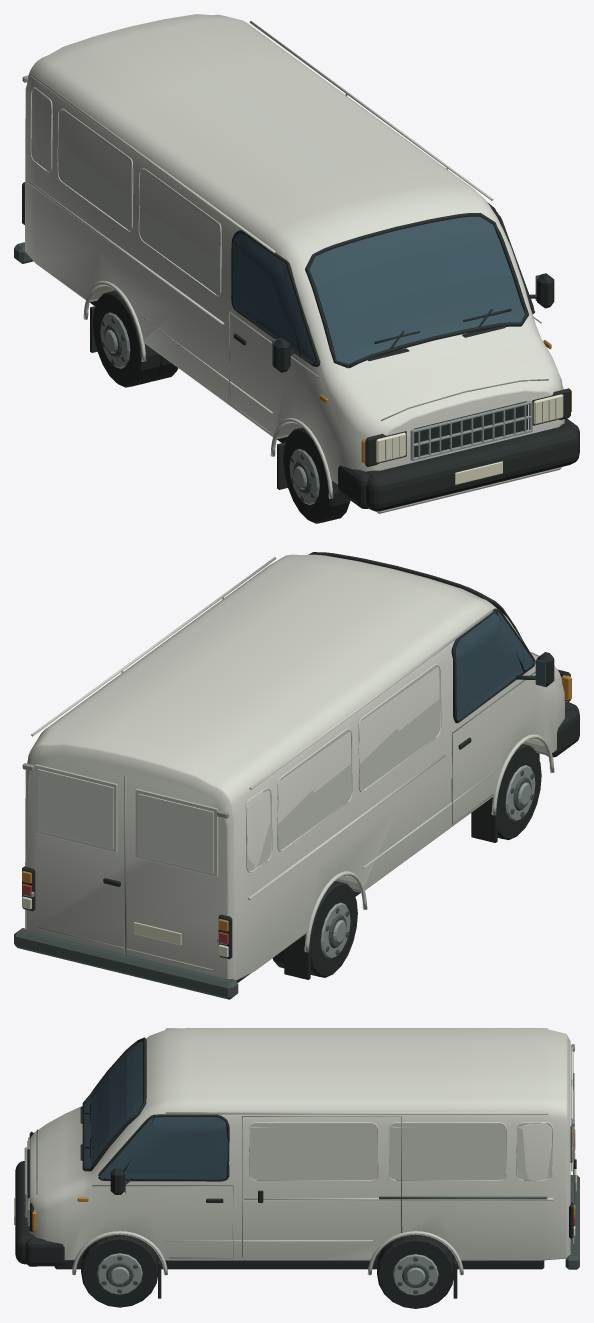
Rendered from gazelle_2705.glb.
3 renders of one model, top to bottom at view 1: azimuth 30°, elevation 25°; view 2: azimuth 150°, elevation 25°; view 3: azimuth 270°, elevation 25°, orthographic. The views are drawn at different scales.
Visible parts, largest first — view 1: GAZ_2705.001; view 2: GAZ_2705.001; view 3: GAZ_2705.001.
Part boxes in pixels (x1,y1,x2,y2): GAZ_2705.001: [14, 14, 579, 523]; GAZ_2705.001: [14, 552, 579, 999]; GAZ_2705.001: [14, 1028, 579, 1308].
Size of the model in its own units: 2.07 by 1.9 by 4.61.
Materials: 3 (3 with a texture image).
